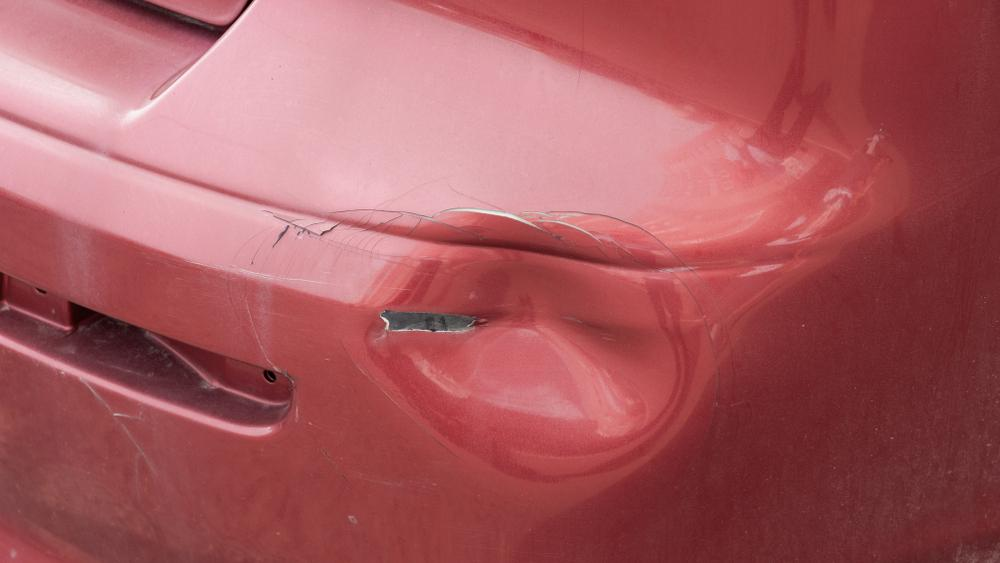dent: (377, 213, 685, 439)
